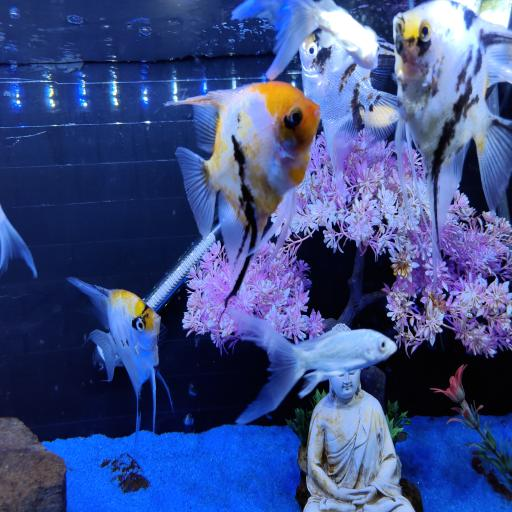Fish: (166, 82, 320, 302), (394, 0, 511, 285), (229, 309, 396, 423), (68, 278, 172, 453), (300, 34, 398, 178), (232, 0, 378, 79), (0, 206, 37, 277), (183, 413, 194, 427)
